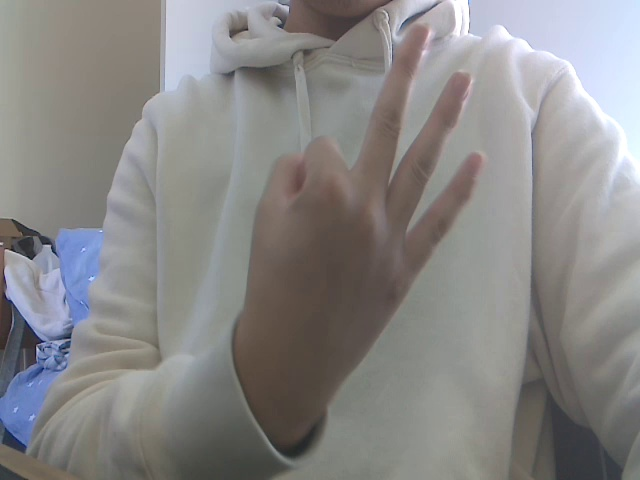hand_gesture_3: (224, 10, 500, 464)
